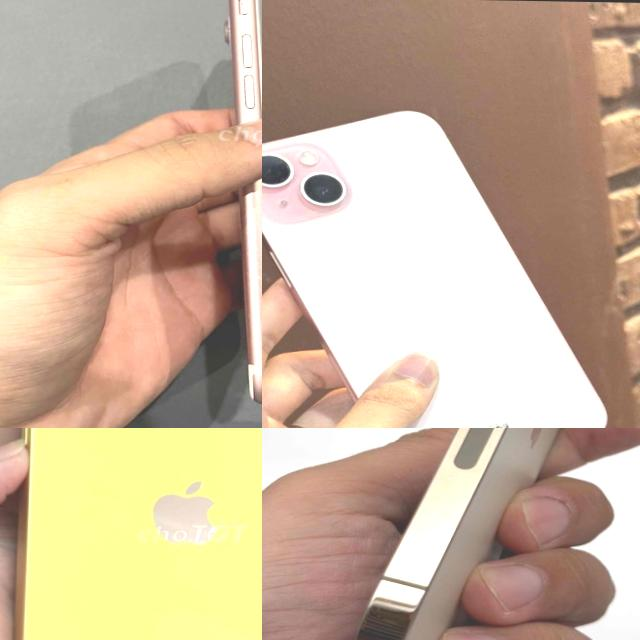scratch: (235, 201, 262, 384), (235, 0, 257, 19)
